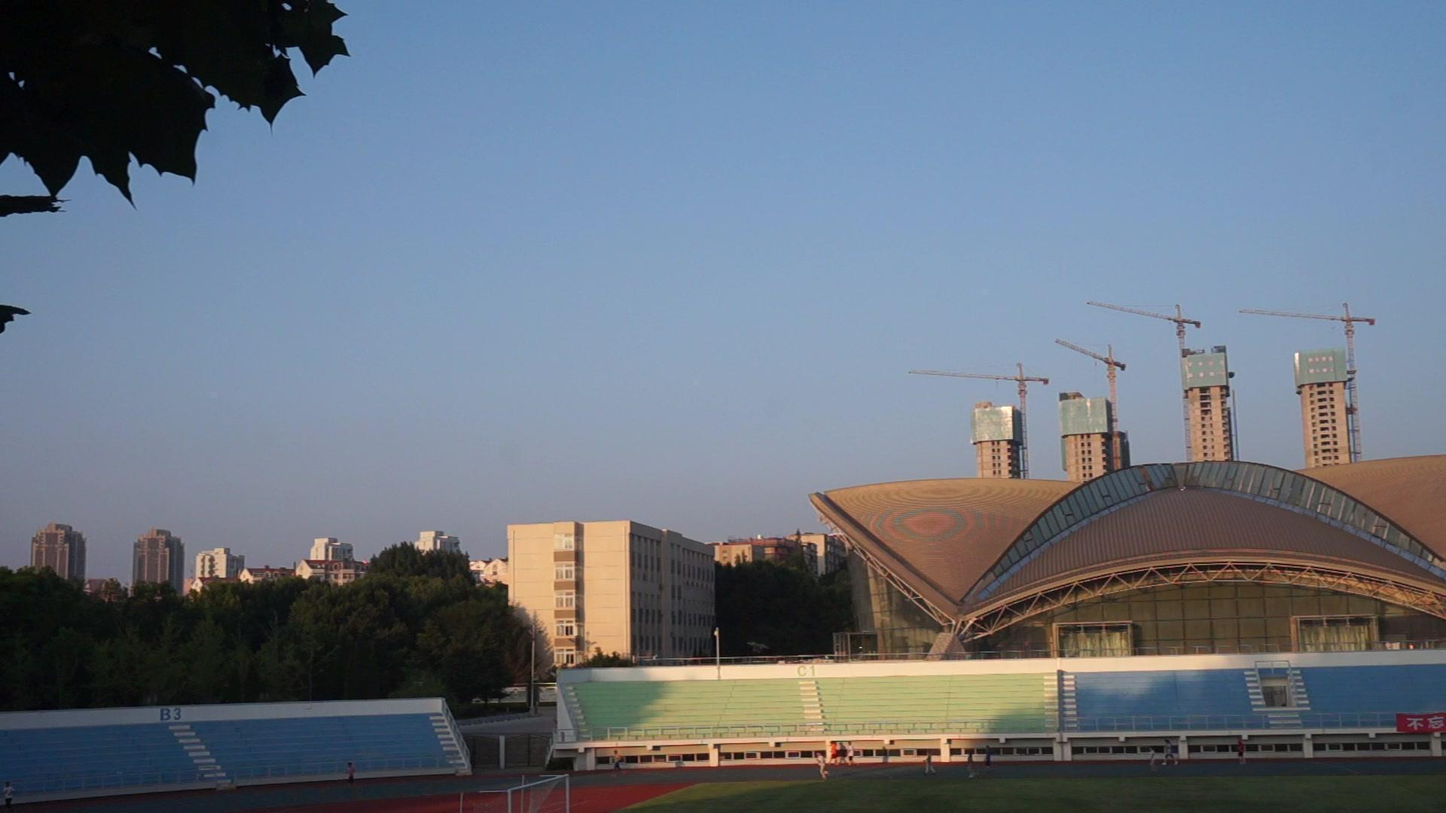UAV: (747, 642, 770, 653)
